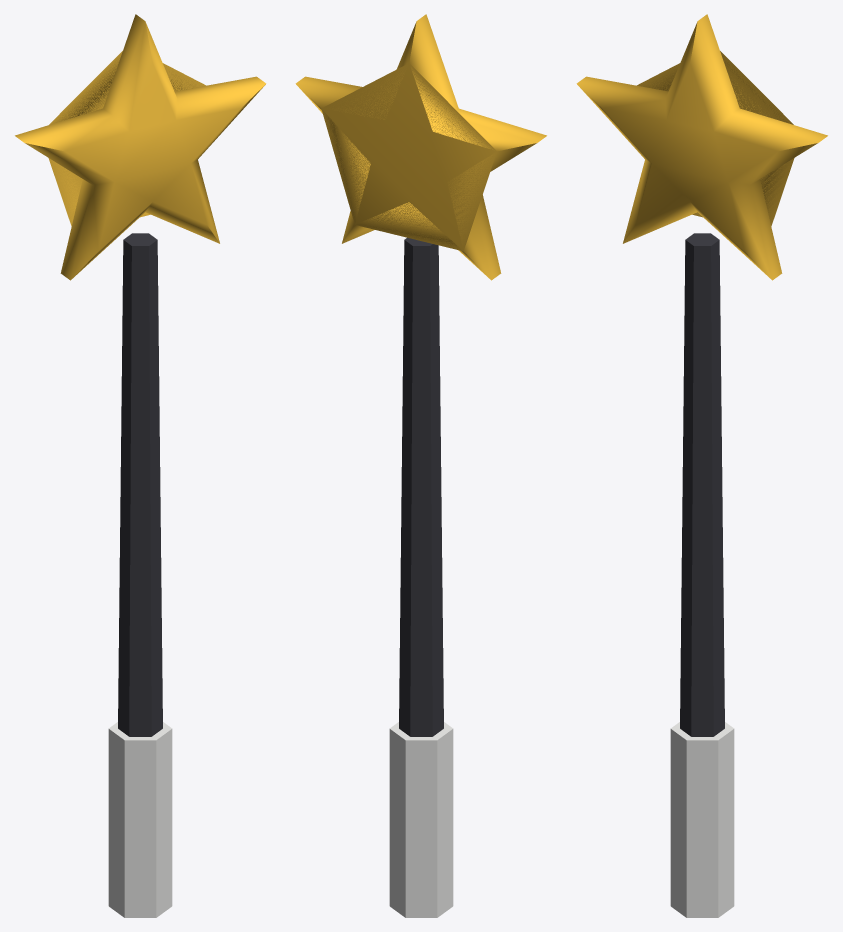
Rendered from MagicWand.fbx.
3 renders of one model, left to right at view 1: azimuth 30°, elevation 25°; view 2: azimuth 150°, elevation 25°; view 3: azimuth 330°, elevation 25°, orthographic.
Visible parts, largest first — view 1: MagicWand; view 2: MagicWand; view 3: MagicWand.
Part boxes in pixels (x1,y1,x2,y2): MagicWand: (15,14,266,917); MagicWand: (295,14,546,917); MagicWand: (576,14,827,917).
Size of the model in its own units: 0.5706 by 2 by 0.13.
Materials: 1 (1 with a texture image).
